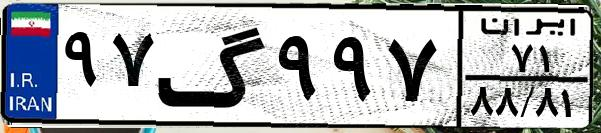1: (560, 70, 590, 125), (537, 27, 568, 80)
7: (385, 28, 445, 110), (110, 28, 156, 98), (508, 27, 537, 80)
8: (470, 70, 495, 125), (495, 70, 520, 125), (535, 70, 560, 125)
9: (270, 28, 330, 110), (330, 28, 385, 110), (57, 26, 110, 100)
گ: (156, 12, 270, 120)
